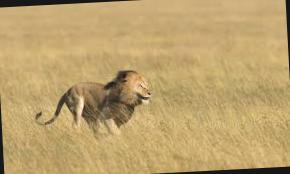lions: (13, 60, 158, 151)
